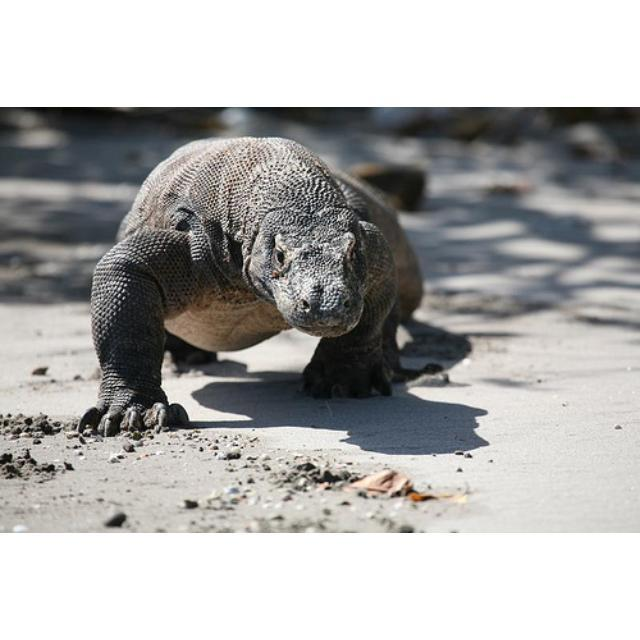KomodoDragon: (76, 135, 422, 444)
